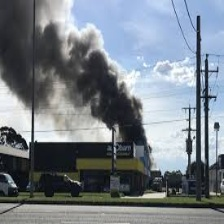smoke: (1, 1, 149, 146)
